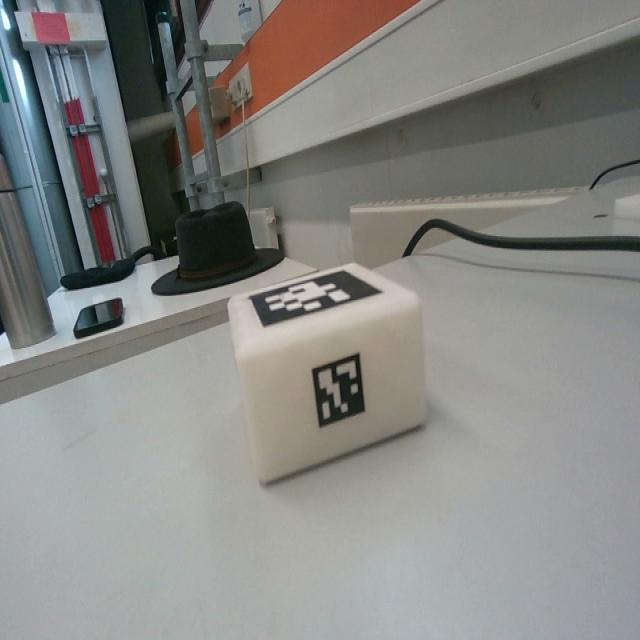Cube: (228, 257, 427, 487)
